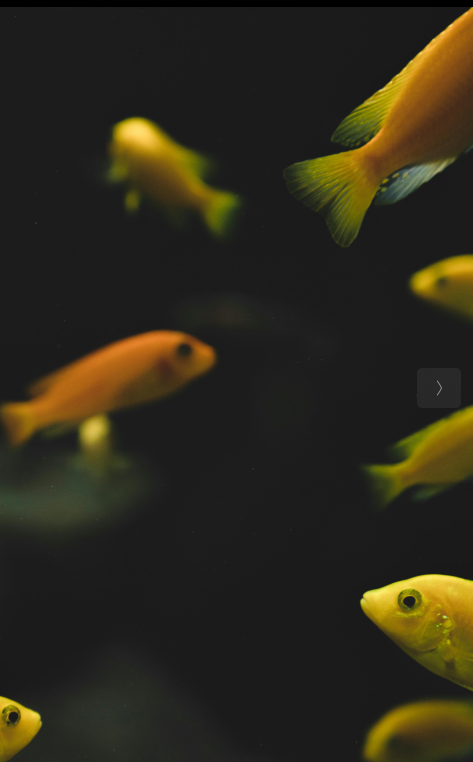fishSmall: (283, 4, 473, 249), (3, 330, 217, 446), (107, 117, 240, 238), (360, 572, 473, 693), (365, 405, 472, 512), (409, 254, 473, 317), (0, 694, 43, 759)
